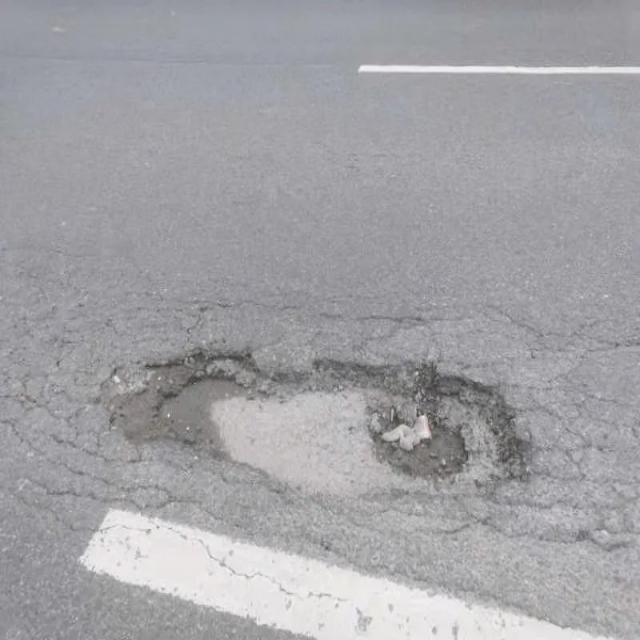Pothole: (101, 348, 534, 511)
